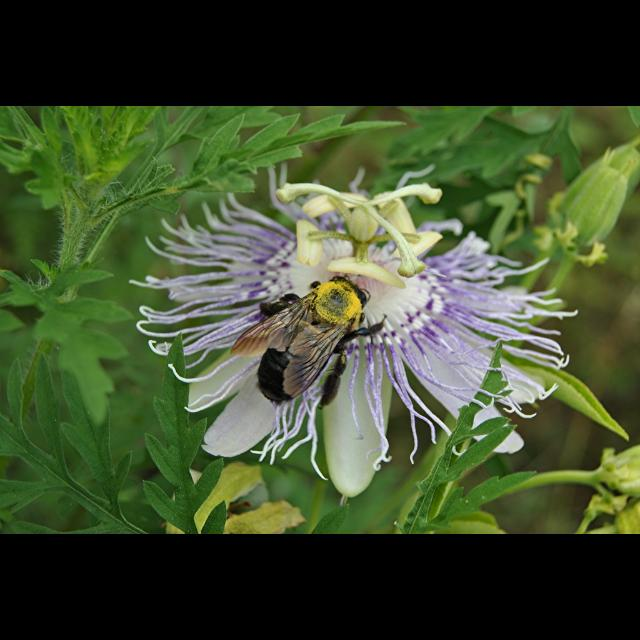Flower: (134, 150, 566, 510)
